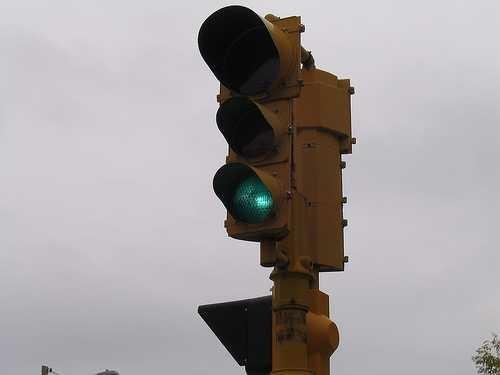2: (194, 8, 300, 240)
3: (198, 4, 299, 96), (214, 96, 292, 158)
red traffic light: (210, 159, 288, 232)
